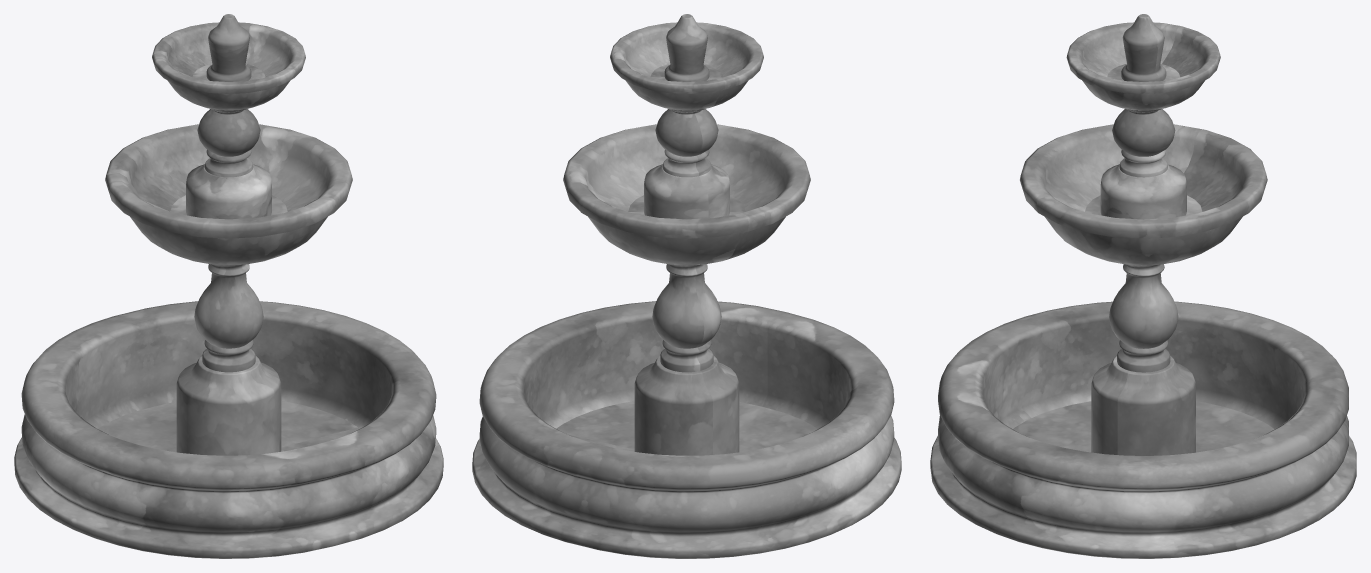
File: SM_fountain_01a.fbx
3 views of the same model, side by side, from view 1: azimuth 30°, elevation 25°; view 2: azimuth 150°, elevation 25°; view 3: azimuth 270°, elevation 25° (orthographic).
Parts seen in each view (by area): view 1: SM_fountain_01a_LOD0; view 2: SM_fountain_01a_LOD0; view 3: SM_fountain_01a_LOD0.
Part boxes in pixels (bbox=[...]): SM_fountain_01a_LOD0: bbox=[14, 14, 443, 558]; SM_fountain_01a_LOD0: bbox=[472, 14, 901, 558]; SM_fountain_01a_LOD0: bbox=[930, 14, 1356, 558].
Size of the model in its own units: 371 by 369 by 434.
